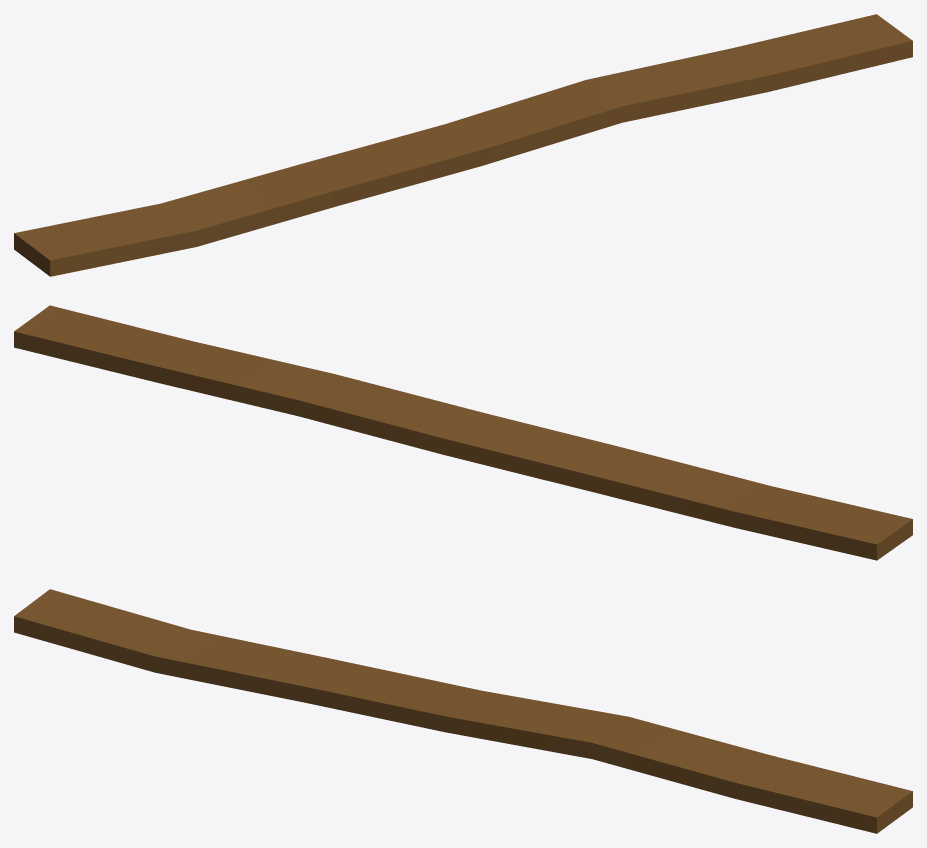
The model's file is palnk_02_a002.fbx.
3 views of the same model, one above another, from view 1: azimuth 30°, elevation 25°; view 2: azimuth 150°, elevation 25°; view 3: azimuth 330°, elevation 25° (orthographic).
Visible parts, largest first — view 1: Palnk_02_a002; view 2: Palnk_02_a002; view 3: Palnk_02_a002.
Boxes of the visible parts, x1,y1,x2,y2 form: Palnk_02_a002: [14, 14, 912, 276]; Palnk_02_a002: [14, 305, 912, 560]; Palnk_02_a002: [14, 589, 912, 833].
Size of the model in its own units: 47.35 by 4.15 by 1.53.
